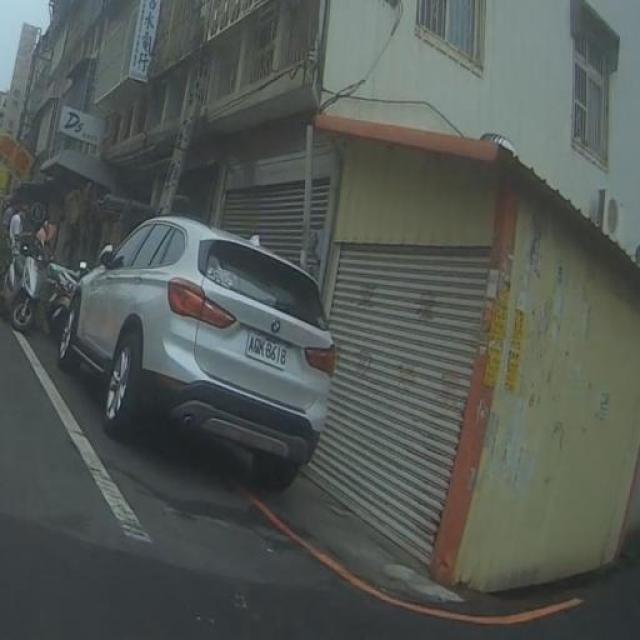illegalparking: (58, 216, 335, 490)
